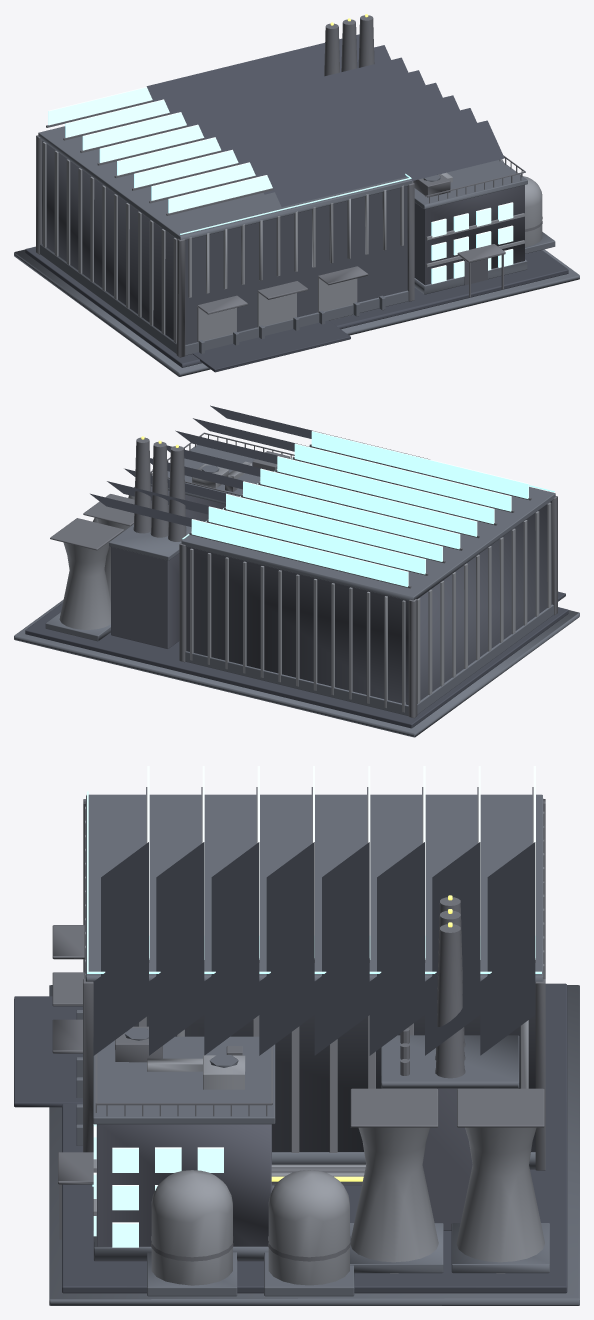
File: industrial.glb
The picture shows the model from 3 angles, top to bottom: view 1: azimuth 30°, elevation 25°; view 2: azimuth 150°, elevation 25°; view 3: azimuth 270°, elevation 25°; orthographic projection. The views are drawn at different scales.
Parts seen in each view (by area): view 1: Foundation_Pad, Hall_Main, Foundation_Base, Roof_Glass_0, Hall_Rib_W, Hall_Post_-15_-8, Admin_Block, Admin_Door, Admin_DoorGlow; view 2: Hall_Main, Roof_Glass_0, Foundation_Base, Hall_Rib_W, Foundation_Pad, Hall_Post_-15_-8, Admin_Block; view 3: Foundation_Pad, Foundation_Base, Hall_Rib_W, Hall_Post_-15_-8, Admin_Block, Hall_Main, Roof_Glass_0, Admin_DoorGlow.
Part boxes in pixels (x1=…): Foundation_Pad: x1=25, y1=34, x2=568, y2=372; Hall_Main: x1=42, y1=140, x2=407, y2=344; Foundation_Base: x1=14, y1=126, x2=579, y2=376; Roof_Glass_0: x1=48, y1=87, x2=513, y2=284; Hall_Rib_W: x1=42, y1=142, x2=542, y2=343; Hall_Post_-15_-8: x1=36, y1=15, x2=542, y2=357; Admin_Block: x1=414, y1=185, x2=524, y2=285; Admin_Door: x1=463, y1=258, x2=487, y2=285; Admin_DoorGlow: x1=180, y1=173, x2=411, y2=234; Hall_Main: x1=186, y1=501, x2=551, y2=704; Roof_Glass_0: x1=191, y1=431, x2=528, y2=586; Foundation_Base: x1=14, y1=445, x2=579, y2=737; Hall_Rib_W: x1=59, y1=461, x2=551, y2=712; Foundation_Pad: x1=25, y1=405, x2=568, y2=728; Hall_Post_-15_-8: x1=50, y1=432, x2=557, y2=717; Admin_Block: x1=111, y1=486, x2=225, y2=649; Foundation_Pad: x1=14, y1=842, x2=567, y2=1293; Foundation_Base: x1=49, y1=794, x2=579, y2=1305; Hall_Rib_W: x1=84, y1=806, x2=544, y2=1285; Hall_Post_-15_-8: x1=52, y1=787, x2=545, y2=1261; Admin_Block: x1=97, y1=1088, x2=472, y2=1246; Hall_Main: x1=93, y1=984, x2=535, y2=1151; Roof_Glass_0: x1=93, y1=766, x2=535, y2=1247; Admin_DoorGlow: x1=87, y1=791, x2=541, y2=1186.
Bounding box in the file's own units: 28.4 × 13.04 × 21.28.
